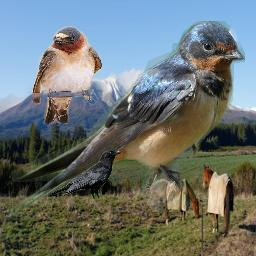Crow: (51, 150, 123, 200)
Swallow: (7, 21, 245, 221), (32, 26, 102, 124)
